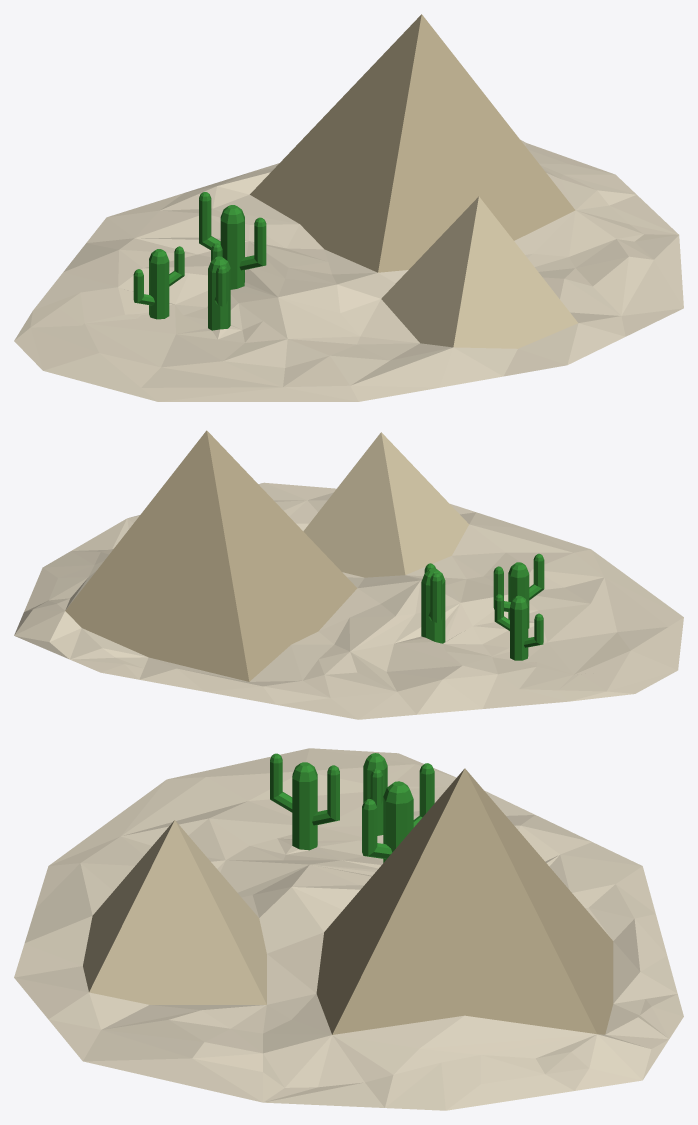
File: Desert.dae
3 renders of one model, top to bottom at view 1: azimuth 30°, elevation 25°; view 2: azimuth 150°, elevation 25°; view 3: azimuth 270°, elevation 25°, orthographic. The views are drawn at different scales.
Visible parts, largest first — view 1: SketchUp (×6); view 2: SketchUp (×6); view 3: SketchUp (×6).
Part boxes in pixels (bbox=[...]): SketchUp (×6): bbox=[14, 14, 683, 401]; SketchUp (×6): bbox=[14, 430, 683, 719]; SketchUp (×6): bbox=[14, 748, 683, 1110].
Size of the model in its own units: 231 by 180 by 69.96.
